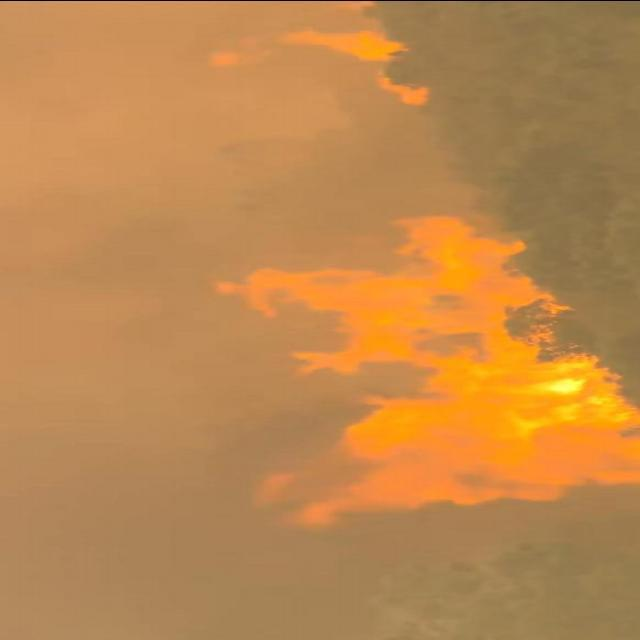Fire: (201, 209, 637, 525), (270, 26, 434, 106)
